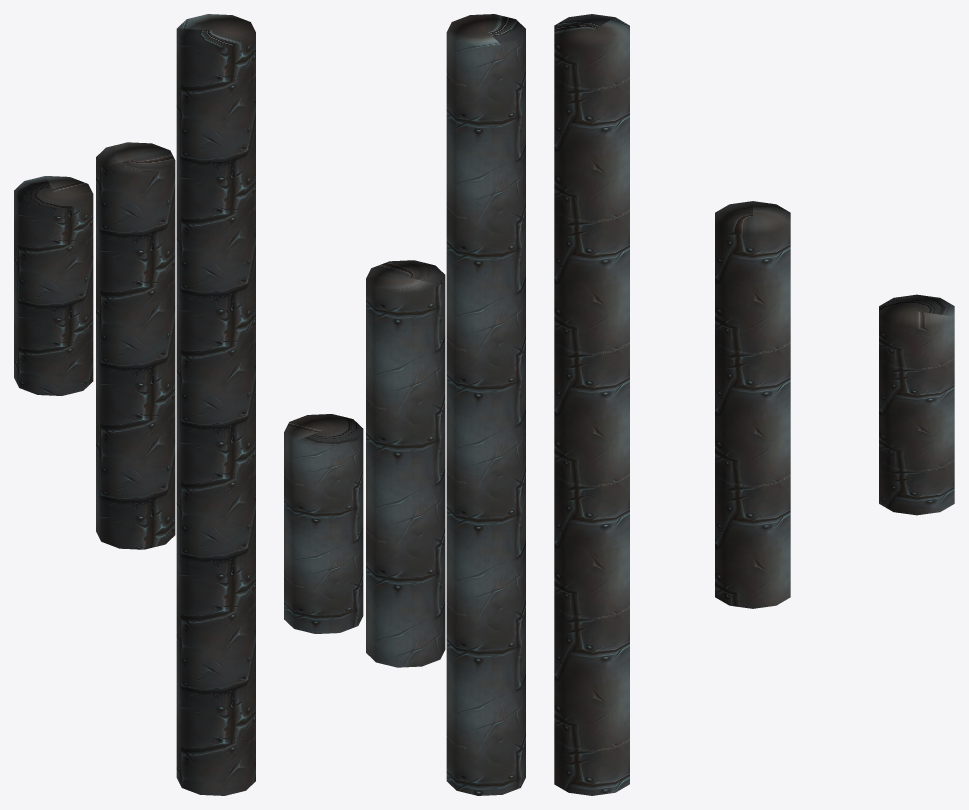
The model's file is PipeFBX.fbx.
3 renders of one model, left to right at view 1: azimuth 30°, elevation 25°; view 2: azimuth 150°, elevation 25°; view 3: azimuth 270°, elevation 25°, orthographic.
Parts seen in each view (by area): view 1: LongPipe, MidPipe, ShortPipe; view 2: LongPipe, MidPipe, ShortPipe; view 3: LongPipe, MidPipe, ShortPipe.
Boxes of the visible parts, x1=… form: LongPipe: x1=176, y1=14, x2=255, y2=795; MidPipe: x1=96, y1=142, x2=175, y2=549; ShortPipe: x1=14, y1=176, x2=93, y2=395; LongPipe: x1=446, y1=14, x2=525, y2=795; MidPipe: x1=366, y1=260, x2=445, y2=667; ShortPipe: x1=284, y1=414, x2=363, y2=633; LongPipe: x1=554, y1=14, x2=629, y2=795; MidPipe: x1=715, y1=201, x2=790, y2=608; ShortPipe: x1=879, y1=294, x2=954, y2=515.
Bounding box in the file's own units: 2.62 × 27.12 × 13.16.
